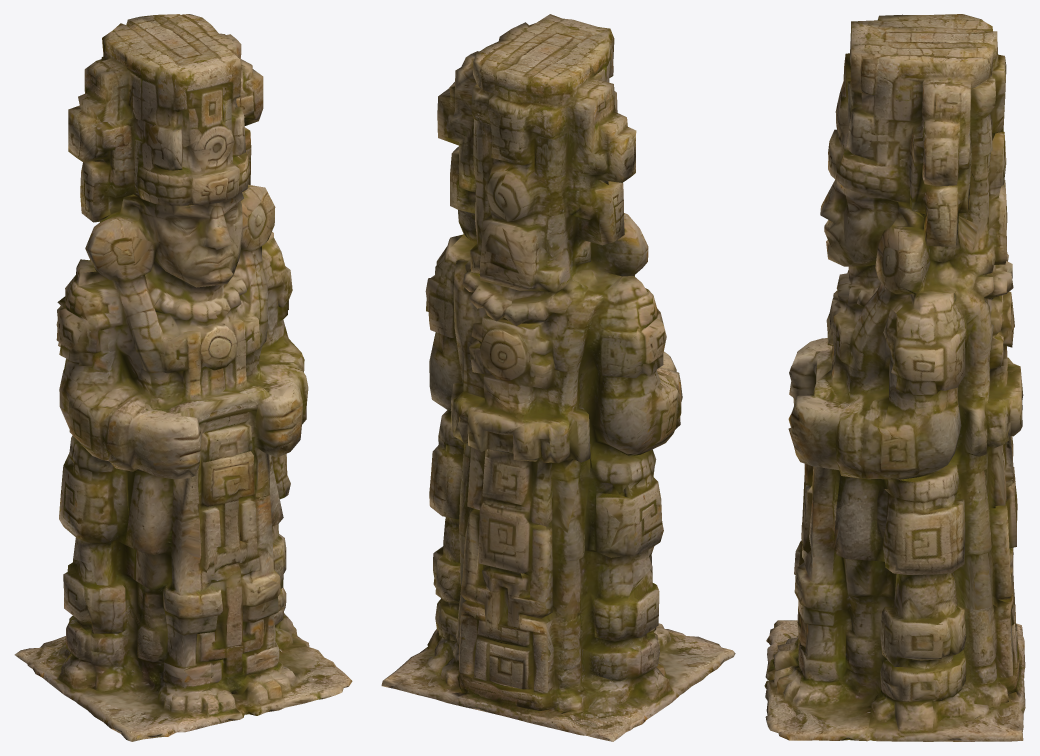
File: PUZ_GuardianMaya_01_LOD1.fbx
The picture shows the model from 3 angles, left to right: view 1: azimuth 30°, elevation 25°; view 2: azimuth 150°, elevation 25°; view 3: azimuth 270°, elevation 25°; orthographic projection. The views are drawn at different scales.
Parts seen in each view (by area): view 1: PUZ_GuardianMaya_01_LOD1; view 2: PUZ_GuardianMaya_01_LOD1; view 3: PUZ_GuardianMaya_01_LOD1.
Boxes of the visible parts, <box> form: PUZ_GuardianMaya_01_LOD1: <box>14,14,352,741</box>; PUZ_GuardianMaya_01_LOD1: <box>381,14,735,741</box>; PUZ_GuardianMaya_01_LOD1: <box>764,14,1025,741</box>.
Bounding box in the file's own units: 0.76 × 1.93 × 0.7054.
